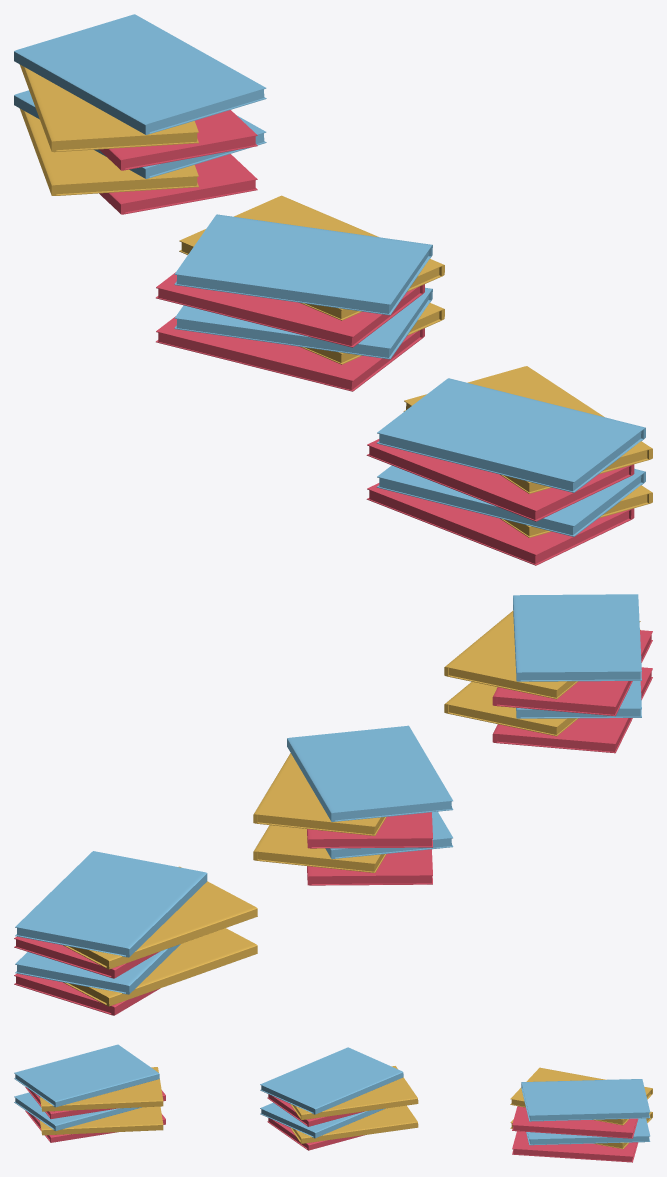
Rendered from book on table.fbx.
3 renders of one model, top to bottom at view 1: azimuth 30°, elevation 25°; view 2: azimuth 150°, elevation 25°; view 3: azimuth 270°, elevation 25°, orthographic. The views are drawn at different scales.
Parts seen in each view (by area): view 1: distrbute books on table; view 2: distrbute books on table; view 3: distrbute books on table.
Boxes of the visible parts, x1,y1,x2,y2 form: distrbute books on table: [14, 14, 652, 565]; distrbute books on table: [14, 594, 652, 1015]; distrbute books on table: [14, 1044, 652, 1162].
Size of the model in its own units: 33.01 by 10.26 by 125.
